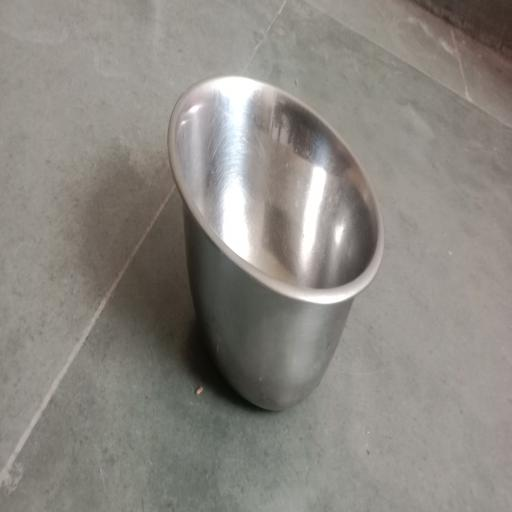Bowl: (168, 77, 384, 410)
